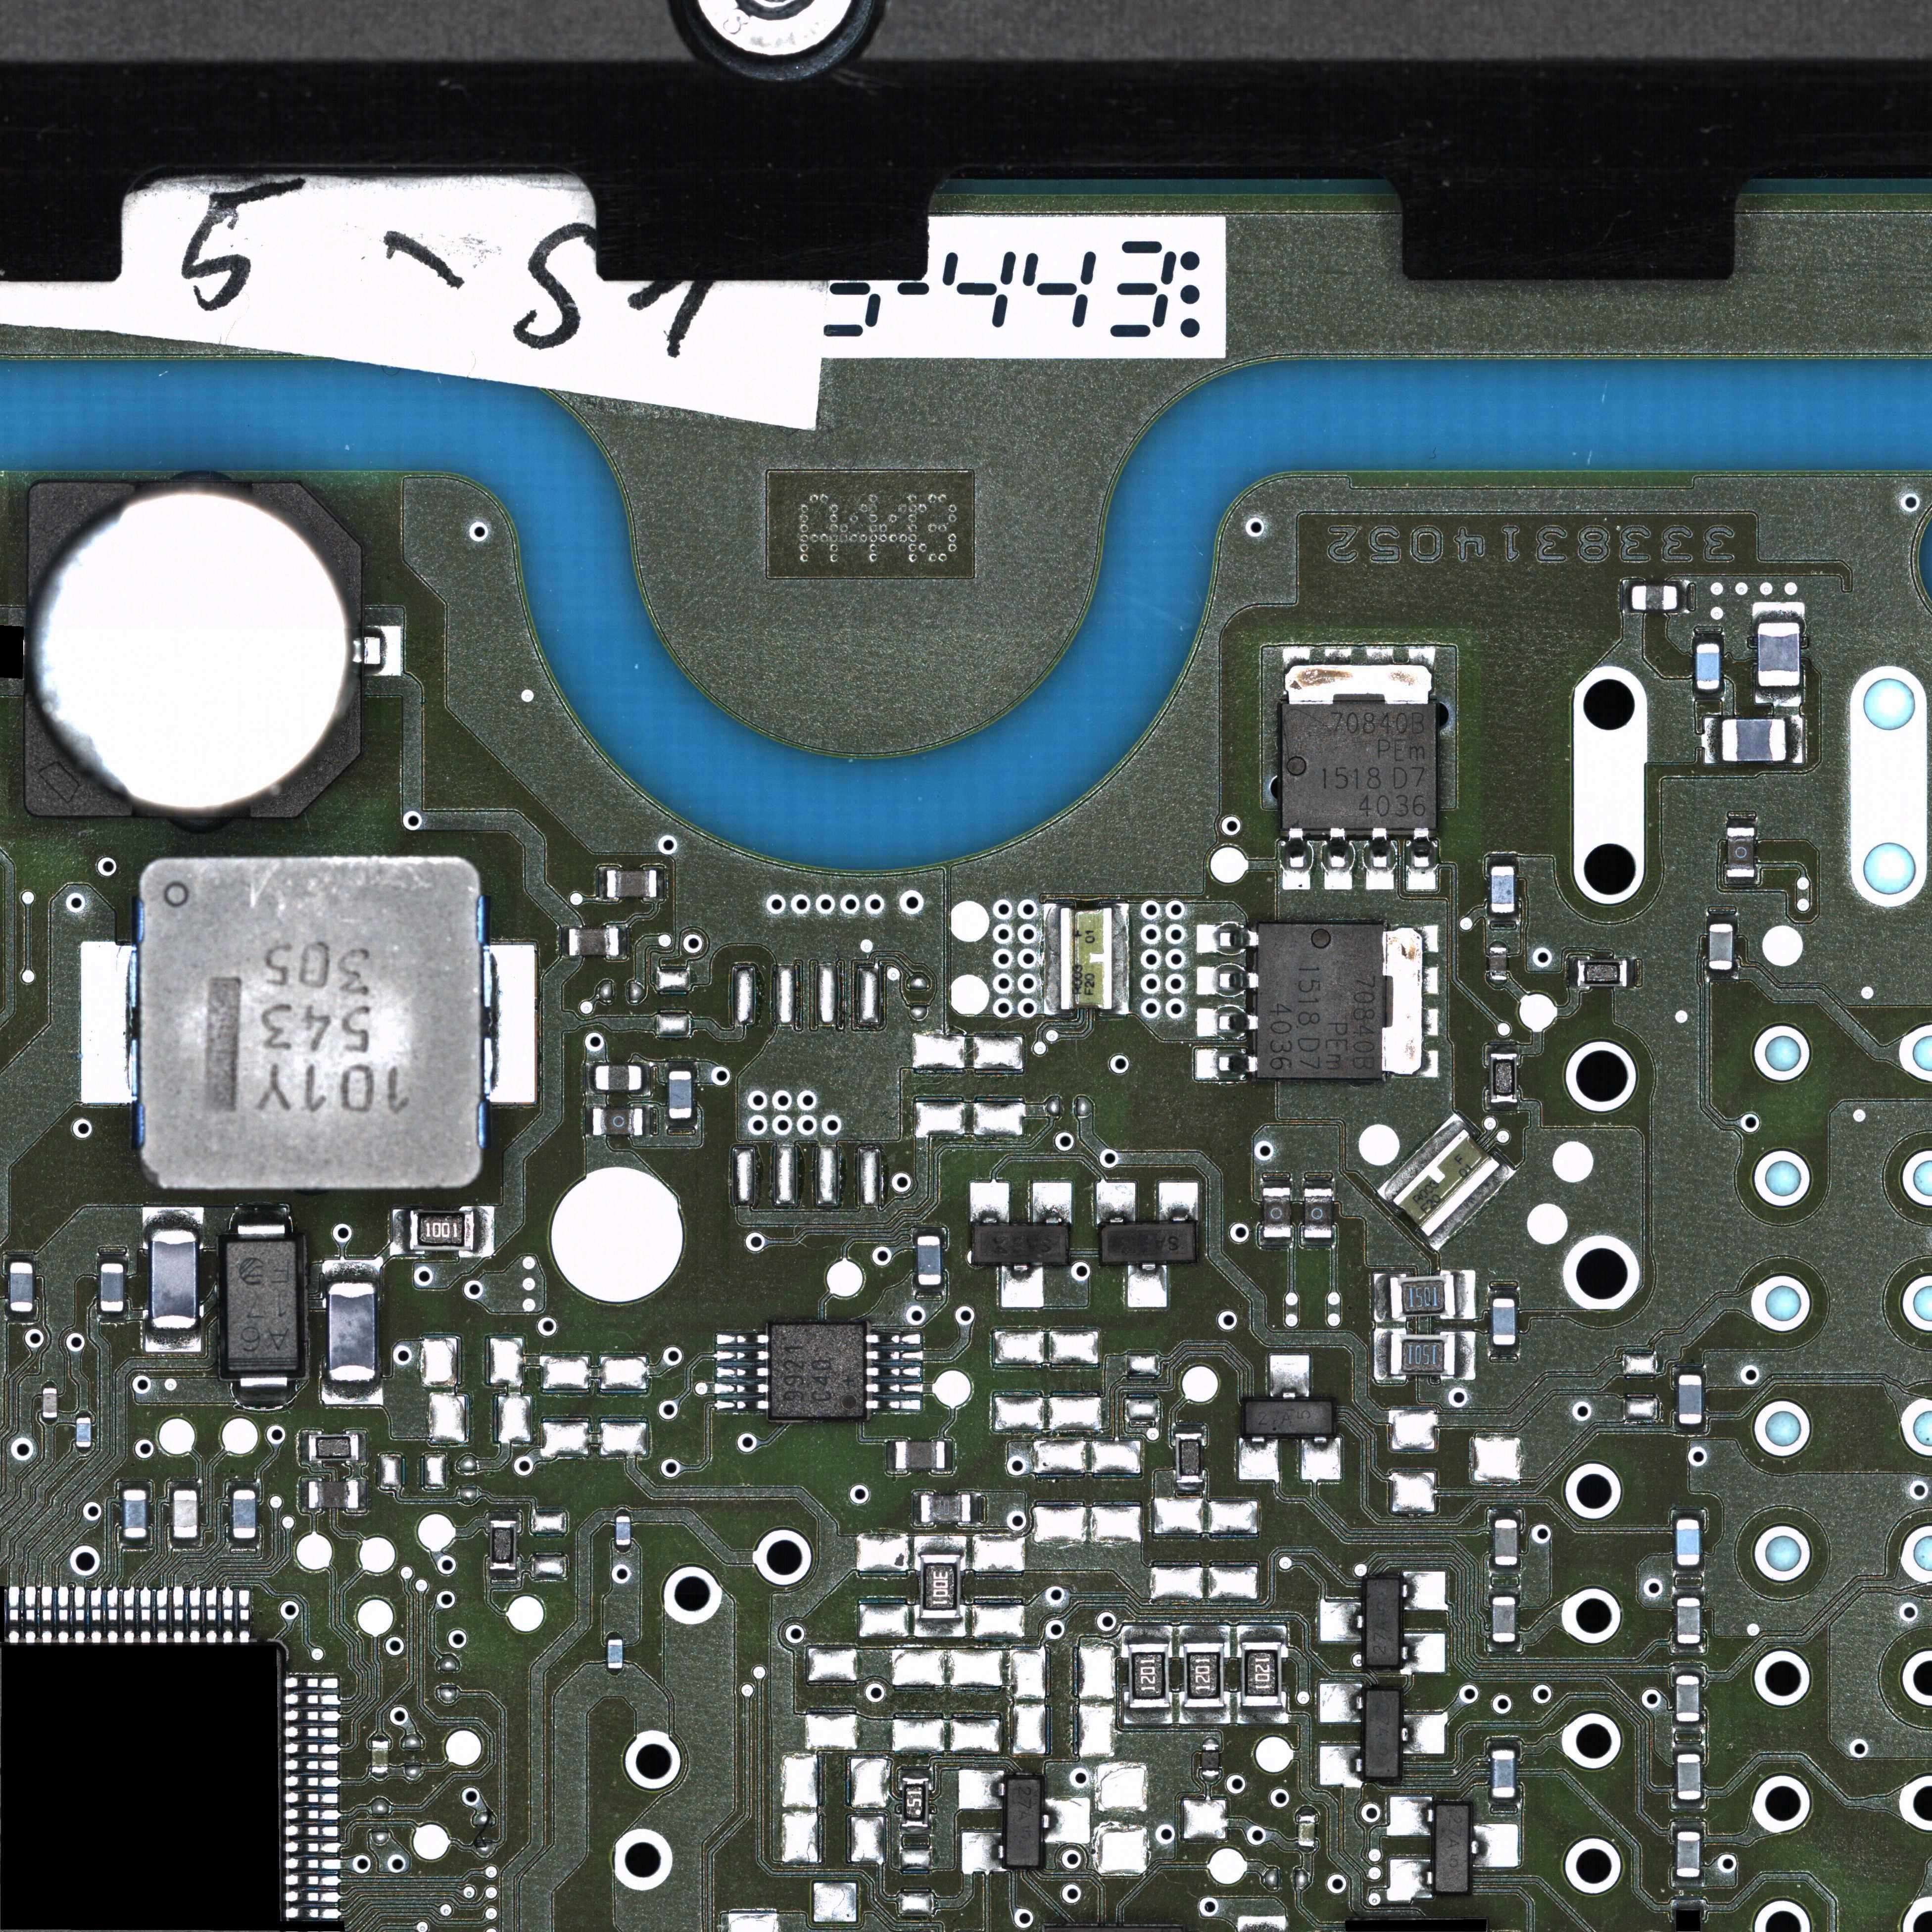Package: (136, 853, 483, 1189), (30, 481, 361, 816), (1281, 704, 1437, 828), (1260, 924, 1382, 1077), (1392, 1129, 1500, 1237), (225, 1240, 299, 1373), (771, 1325, 865, 1421), (1062, 908, 1111, 1008), (329, 1281, 377, 1380), (150, 1230, 196, 1329), (973, 1224, 1067, 1263), (1102, 1226, 1196, 1261), (1244, 1399, 1334, 1435), (1366, 1578, 1399, 1667), (1366, 1690, 1399, 1778), (1007, 1778, 1040, 1867), (1391, 1274, 1456, 1318), (1757, 623, 1801, 686), (920, 1553, 962, 1619), (1437, 1805, 1468, 1891), (409, 1210, 476, 1251), (1391, 1334, 1454, 1376), (1721, 720, 1787, 761), (1184, 1644, 1224, 1707), (1129, 1644, 1169, 1707), (1242, 1642, 1281, 1706), (607, 869, 656, 899), (1304, 1187, 1332, 1238), (1490, 1053, 1518, 1104), (568, 929, 619, 957), (920, 1493, 971, 1522), (1263, 1187, 1292, 1237), (895, 1442, 945, 1470), (1175, 1433, 1203, 1483), (308, 1481, 357, 1509), (1727, 828, 1753, 878), (902, 1778, 929, 1828), (593, 1108, 642, 1134), (308, 1435, 359, 1460), (490, 1522, 517, 1569), (1695, 642, 1721, 690), (1578, 961, 1626, 987), (916, 1235, 941, 1284), (99, 1263, 124, 1313), (122, 1490, 147, 1539), (232, 1490, 257, 1537), (1491, 1299, 1516, 1346), (594, 1065, 642, 1090), (1491, 1750, 1516, 1798), (9, 1261, 32, 1311), (1675, 1675, 1700, 1721), (1709, 924, 1734, 970), (1677, 1753, 1702, 1799), (1675, 1520, 1700, 1566), (1679, 1375, 1702, 1424), (1675, 1598, 1700, 1644), (1491, 1596, 1516, 1642), (1631, 586, 1677, 610), (669, 1070, 692, 1118), (1677, 1831, 1700, 1877), (1495, 1520, 1518, 1566), (1491, 867, 1514, 913), (173, 1491, 196, 1537), (1488, 947, 1507, 980), (372, 1741, 389, 1773), (1201, 1744, 1219, 1775), (42, 1387, 58, 1419), (1299, 1815, 1315, 1845), (607, 1638, 623, 1668), (76, 1417, 92, 1447), (616, 1516, 632, 1545)
Solder: (1375, 1111, 1468, 1203), (1424, 1161, 1518, 1253), (81, 941, 133, 1104), (490, 945, 536, 1102), (1277, 828, 1315, 890), (1196, 961, 1258, 998), (1320, 828, 1357, 890), (1042, 1796, 1090, 1844), (1196, 920, 1258, 955), (1362, 828, 1398, 890), (1196, 1005, 1258, 1040), (1405, 828, 1440, 890), (1194, 1047, 1258, 1081), (1470, 1824, 1518, 1867), (1113, 902, 1131, 1016), (1044, 904, 1062, 1016), (364, 625, 402, 676), (959, 1769, 1005, 1810), (1001, 1265, 1044, 1307), (1401, 1633, 1445, 1674), (1095, 1182, 1136, 1224), (1300, 1437, 1341, 1479), (1320, 1601, 1364, 1640), (1320, 1684, 1364, 1723), (1127, 1263, 1166, 1307), (1401, 1714, 1445, 1753), (1270, 1355, 1309, 1399), (1401, 1571, 1445, 1610), (961, 1833, 1005, 1872), (234, 1207, 287, 1238), (1391, 1798, 1433, 1836), (1320, 1746, 1362, 1785), (1238, 1437, 1277, 1479), (1391, 1859, 1433, 1898), (234, 1375, 292, 1403), (1159, 1182, 1198, 1223), (1033, 1182, 1072, 1223), (971, 1182, 1008, 1224), (320, 1382, 384, 1405), (143, 1329, 202, 1353), (142, 1207, 203, 1230), (322, 1260, 380, 1281), (1752, 602, 1805, 623), (1755, 686, 1803, 708), (1122, 1624, 1173, 1644), (1700, 718, 1721, 764), (1456, 1330, 1476, 1380), (1456, 1270, 1476, 1320), (913, 1536, 966, 1553), (389, 1208, 409, 1256), (476, 1207, 494, 1258), (1178, 1707, 1230, 1725), (1178, 1626, 1230, 1644), (1237, 1624, 1286, 1642), (1373, 1327, 1389, 1380), (865, 1348, 924, 1362), (865, 1332, 924, 1346), (285, 1709, 343, 1723), (285, 1840, 343, 1854), (285, 1874, 343, 1888), (1373, 1272, 1389, 1323), (915, 1621, 966, 1637), (1787, 713, 1803, 764), (1237, 1707, 1288, 1723), (713, 1382, 770, 1396), (285, 1691, 341, 1706), (285, 1741, 341, 1755), (285, 1759, 341, 1773), (285, 1790, 341, 1805), (285, 1808, 341, 1822), (285, 1824, 341, 1838), (285, 1890, 341, 1904), (285, 1907, 341, 1921), (285, 1675, 340, 1690), (865, 1366, 924, 1378), (865, 1382, 924, 1394), (25, 1585, 37, 1644), (122, 1585, 134, 1644), (106, 1585, 119, 1644), (90, 1585, 103, 1644), (74, 1585, 87, 1644), (156, 1585, 168, 1644), (140, 1585, 152, 1644), (205, 1585, 218, 1644), (285, 1858, 343, 1870), (1123, 1709, 1173, 1723), (57, 1585, 69, 1642), (41, 1585, 53, 1642), (188, 1585, 200, 1642), (172, 1585, 184, 1642), (237, 1585, 249, 1642), (221, 1585, 234, 1642), (285, 1727, 341, 1739), (285, 1776, 341, 1789), (715, 1366, 770, 1378), (715, 1334, 770, 1346), (711, 1350, 770, 1361), (9, 1585, 19, 1644), (865, 1399, 922, 1410), (713, 1399, 768, 1410), (1366, 646, 1394, 665), (1408, 646, 1437, 665), (1283, 646, 1311, 665), (1325, 646, 1353, 665), (1422, 925, 1440, 954), (1421, 1049, 1438, 1077), (1486, 1507, 1523, 1520), (1422, 1008, 1438, 1037), (1484, 855, 1520, 867), (1422, 968, 1438, 994), (1677, 580, 1690, 614), (1668, 1644, 1707, 1654), (1668, 1663, 1706, 1674), (1670, 1821, 1707, 1831), (1670, 1509, 1707, 1520), (885, 1438, 895, 1476), (166, 1537, 203, 1548), (4, 1311, 41, 1322), (1566, 955, 1578, 987), (911, 1284, 948, 1295), (1486, 1739, 1522, 1750), (1486, 1642, 1522, 1652), (1621, 579, 1631, 614), (1670, 1566, 1706, 1576), (1672, 1721, 1707, 1732), (1672, 1743, 1707, 1753), (1670, 1877, 1706, 1888), (1704, 970, 1739, 980), (971, 1491, 982, 1527), (487, 1509, 520, 1520), (1670, 1587, 1704, 1598), (1672, 1900, 1706, 1911), (1484, 913, 1523, 922), (665, 1060, 697, 1070), (96, 1253, 127, 1263), (1488, 1288, 1520, 1299), (1490, 1585, 1522, 1596), (1706, 913, 1737, 924), (1484, 1044, 1522, 1053), (619, 924, 628, 961), (1670, 1801, 1707, 1810), (115, 1481, 152, 1490), (225, 1481, 262, 1490), (1171, 1424, 1208, 1433), (117, 1539, 154, 1548), (166, 1481, 203, 1490), (359, 1430, 368, 1467), (299, 1430, 308, 1467), (656, 865, 665, 902), (1258, 1238, 1295, 1247), (488, 1569, 518, 1580), (1672, 1366, 1707, 1375), (1691, 690, 1727, 699), (897, 1769, 932, 1778), (226, 1539, 262, 1548), (96, 1313, 131, 1322), (1674, 1424, 1709, 1433), (642, 1062, 651, 1095), (913, 1226, 947, 1235), (1488, 1566, 1522, 1575), (1628, 957, 1637, 989), (584, 1104, 593, 1136), (586, 1063, 594, 1095), (559, 925, 568, 957), (598, 865, 605, 904), (1723, 878, 1762, 885), (1693, 633, 1723, 642), (1727, 819, 1757, 828), (947, 1438, 954, 1476), (301, 1477, 308, 1514), (913, 1490, 920, 1527), (1300, 1238, 1338, 1246), (644, 1104, 651, 1139), (359, 1477, 366, 1513), (2, 1254, 35, 1261), (665, 1120, 699, 1127), (1173, 1484, 1207, 1491), (1484, 1104, 1518, 1111), (1488, 1346, 1522, 1353), (1302, 1180, 1336, 1187), (1260, 1180, 1292, 1187), (901, 1828, 931, 1835), (1486, 1799, 1522, 1805), (1297, 1845, 1318, 1854), (605, 1668, 625, 1677), (1488, 980, 1509, 987), (616, 1507, 632, 1516), (1297, 1808, 1316, 1815), (614, 1546, 633, 1553), (1488, 939, 1507, 947), (1201, 1776, 1221, 1783), (605, 1631, 625, 1638), (1201, 1737, 1219, 1744), (41, 1419, 58, 1426), (74, 1447, 92, 1454), (42, 1380, 58, 1387), (76, 1410, 92, 1417), (370, 1775, 389, 1780), (372, 1734, 389, 1739)
